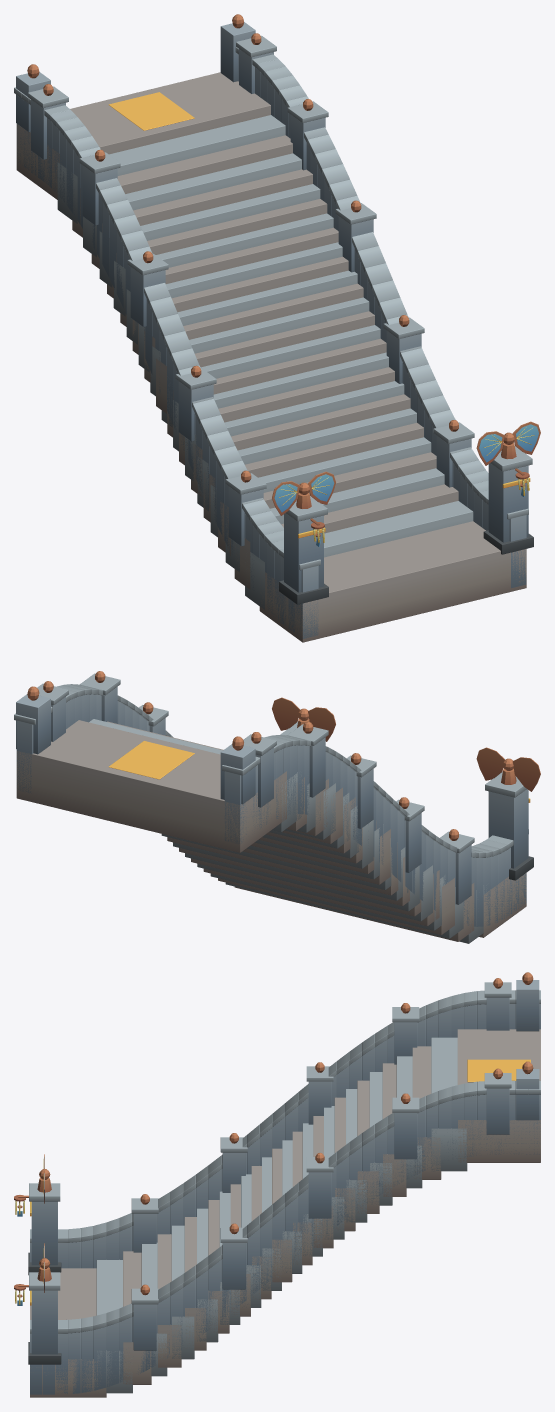
File: summit_stair.glb
The picture shows the model from 3 angles, top to bottom: view 1: azimuth 30°, elevation 25°; view 2: azimuth 150°, elevation 25°; view 3: azimuth 270°, elevation 25°; orthographic projection. The views are drawn at different scales.
Visible parts, largest first — view 1: summit_stair; view 2: summit_stair; view 3: summit_stair.
Boxes of the visible parts, x1,y1,x2,y2 form: summit_stair: [14, 14, 540, 642]; summit_stair: [14, 671, 540, 943]; summit_stair: [14, 972, 540, 1397].
Bounding box in the file's own units: 8.41 × 11.1 × 15.98.
Materials: 1 (1 with a texture image).
